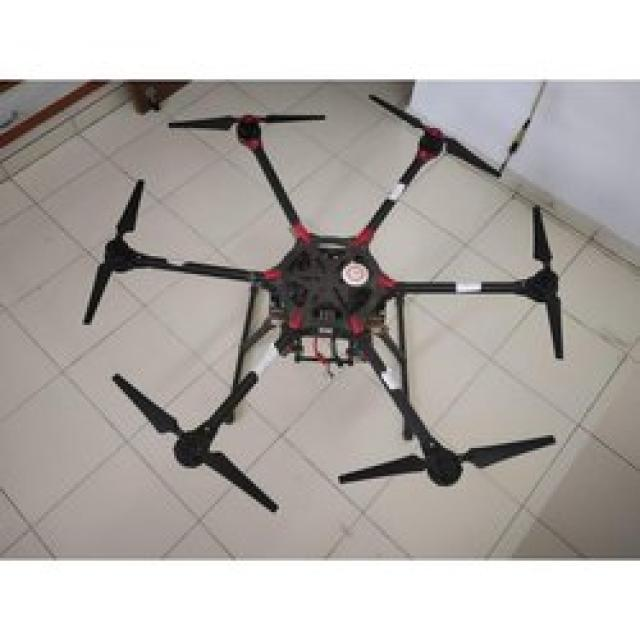drone: (13, 92, 609, 517)
